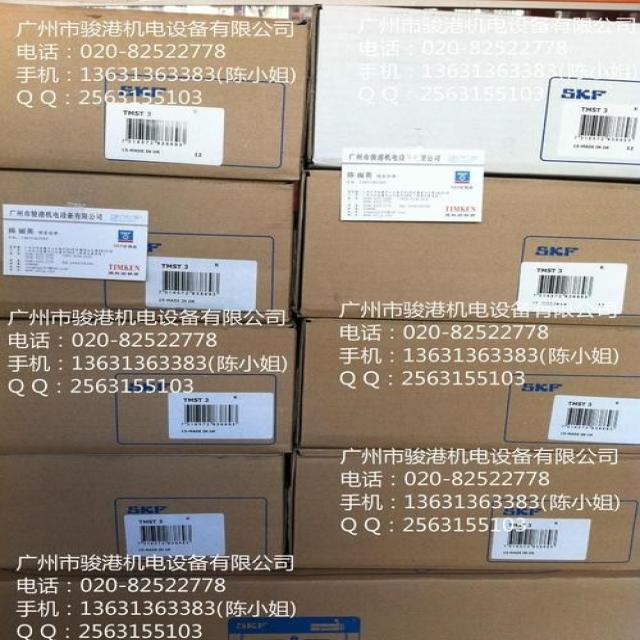box: (306, 4, 640, 179), (293, 169, 640, 328), (0, 3, 310, 180), (0, 167, 300, 324), (296, 318, 640, 453), (285, 448, 640, 569), (0, 317, 300, 457), (0, 456, 285, 568)
